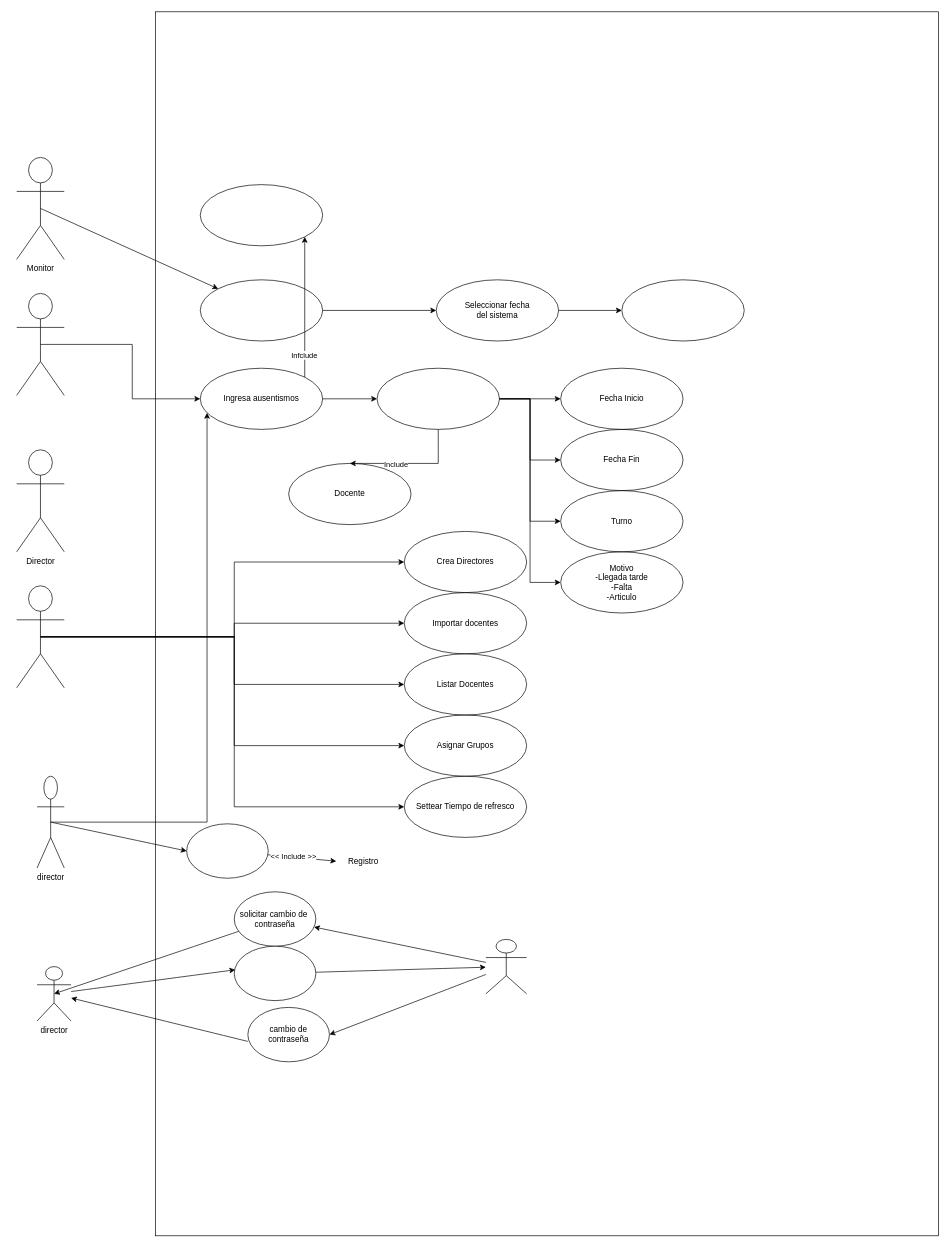
Some shapes in this 951 by 1248 pixel diagram are drawn without their labels. The box of each missing label's shape, as (x1, y1, x2, y2) in pixels:
Admin: (16, 585, 64, 688)
contraseña autogenerada (1 solo uso): (234, 946, 316, 1001)
Listar Ausentismo: (200, 279, 323, 341)
Login: (200, 184, 323, 246)
Paginado 60 segundos por turno: (621, 279, 744, 341)
Selecciona Cedula Docente: (376, 368, 499, 429)
usuario: (485, 939, 527, 994)
Usuario Adscripto, Cordinador Y administrativo: (16, 293, 64, 395)
Valida Registro de usuario: (186, 823, 268, 878)
